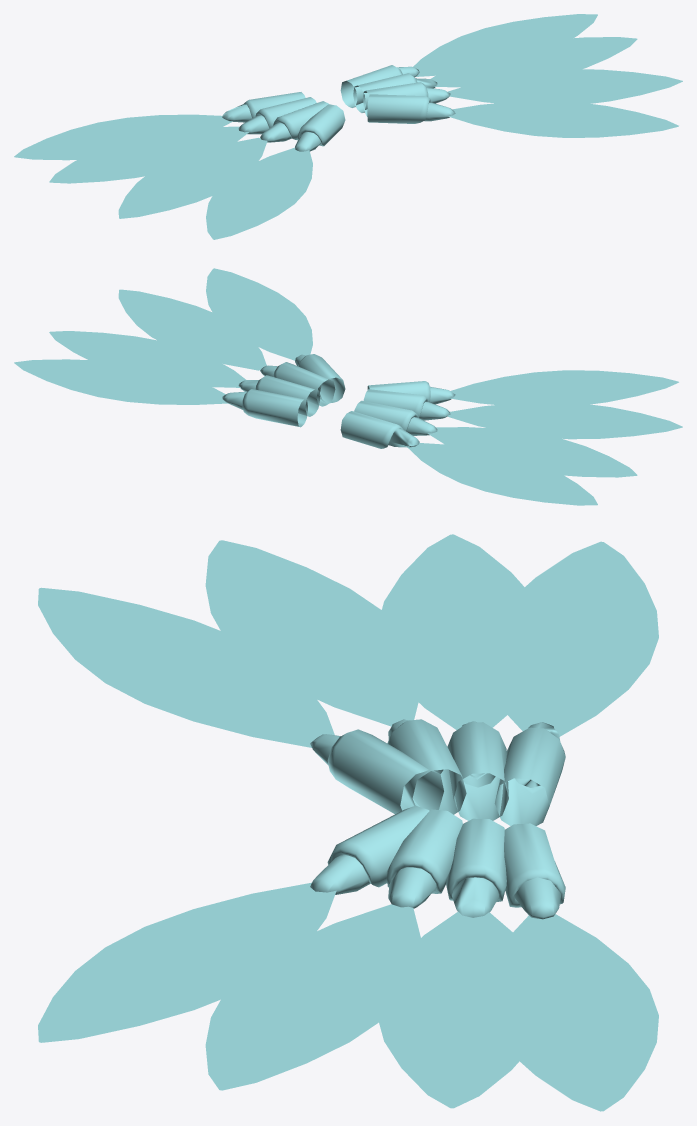
Rendered from Shrimp_Legs_Caridid.fbx.
3 renders of one model, top to bottom at view 1: azimuth 30°, elevation 25°; view 2: azimuth 150°, elevation 25°; view 3: azimuth 270°, elevation 25°, orthographic. The views are drawn at different scales.
Visible parts, largest first — view 1: L.Fan_low.016, R.Fan_low.011, L.Fan_low.015, R.Fan_low.012, R.Fan_low.013, L.Fan_low.017, R.Fan_low.014, L.Fan_low.018, L.Leg_Base_low.008, R.Leg_Base_low.008, L.Leg_Base_low.011, R.Leg_Base_low.009 (+9 smaller); view 2: R.Fan_low.011, L.Fan_low.016, R.Fan_low.013, L.Fan_low.017, R.Fan_low.012, L.Fan_low.015, R.Fan_low.014, L.Fan_low.018, L.Leg_Base_low.011, R.Leg_Base_low.011, L.Leg_Base_low.009, L.Leg_Base_low.010 (+7 smaller); view 3: L.Fan_low.016, R.Fan_low.011, L.Fan_low.015, R.Fan_low.012, L.Fan_low.017, R.Fan_low.013, L.Fan_low.018, R.Fan_low.014, R.Leg_Base_low.008, R.Leg_Base_low.011, R.Leg_Base_low.010, L.Leg_Base_low.009 (+8 smaller).
Part boxes in pixels (box(x1,y1,x2,y2)): L.Fan_low.016: box(448, 100, 678, 137); R.Fan_low.011: box(206, 147, 312, 239); L.Fan_low.015: box(448, 69, 682, 103); R.Fan_low.012: box(118, 137, 267, 218); R.Fan_low.013: box(49, 126, 248, 183); L.Fan_low.017: box(430, 37, 637, 87); R.Fan_low.014: box(14, 114, 232, 160); L.Fan_low.018: box(413, 14, 597, 76); L.Leg_Base_low.008: box(367, 94, 430, 123); R.Leg_Base_low.008: box(297, 104, 345, 146); L.Leg_Base_low.011: box(340, 65, 402, 107); R.Leg_Base_low.009: box(273, 101, 328, 140); R.Fan_low.011: box(450, 370, 678, 407); L.Fan_low.016: box(206, 268, 312, 360); R.Fan_low.013: box(427, 427, 637, 477); L.Fan_low.017: box(49, 331, 245, 387); R.Fan_low.012: box(448, 404, 682, 439); L.Fan_low.015: box(118, 289, 266, 370); R.Fan_low.014: box(407, 443, 597, 505); L.Fan_low.018: box(14, 359, 228, 404); L.Leg_Base_low.011: box(242, 389, 307, 427); R.Leg_Base_low.011: box(340, 411, 403, 448); L.Leg_Base_low.009: box(273, 362, 335, 406); L.Leg_Base_low.010: box(255, 375, 320, 416); L.Fan_low.016: box(38, 882, 336, 1042); R.Fan_low.011: box(38, 587, 334, 747); L.Fan_low.015: box(205, 904, 420, 1090); R.Fan_low.012: box(205, 540, 421, 726); L.Fan_low.017: box(379, 911, 549, 1108); R.Fan_low.013: box(382, 534, 549, 729); L.Fan_low.018: box(513, 914, 658, 1111); R.Fan_low.014: box(508, 541, 658, 736); R.Leg_Base_low.008: box(327, 729, 443, 814); R.Leg_Base_low.011: box(494, 727, 565, 825); R.Leg_Base_low.010: box(447, 722, 508, 820); L.Leg_Base_low.009: box(386, 809, 462, 893).
Size of the model in its own units: 146 by 7.54 by 66.65.
